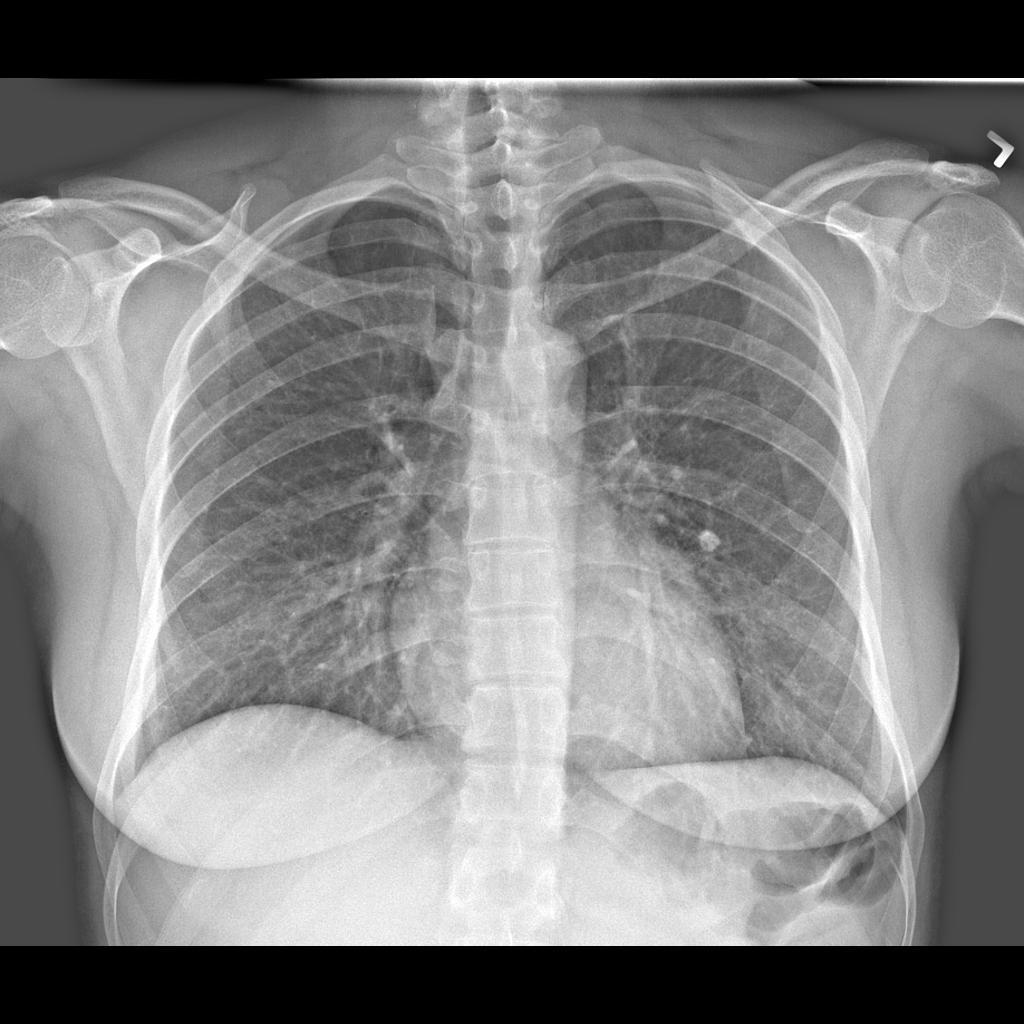Nodule: (690, 519, 726, 563)
